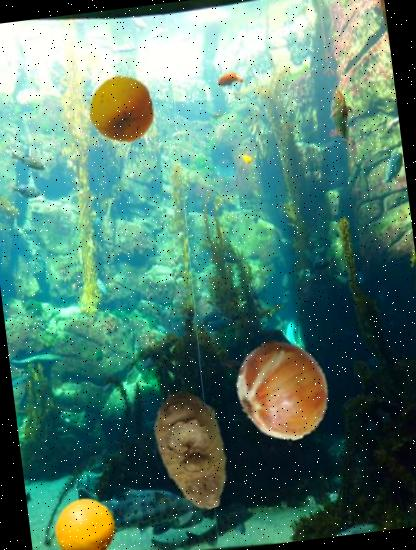Ginger: (126, 383, 262, 519)
Grapefruit: (49, 494, 119, 550)
Onion: (226, 334, 340, 448)
Peach: (83, 73, 158, 148)
